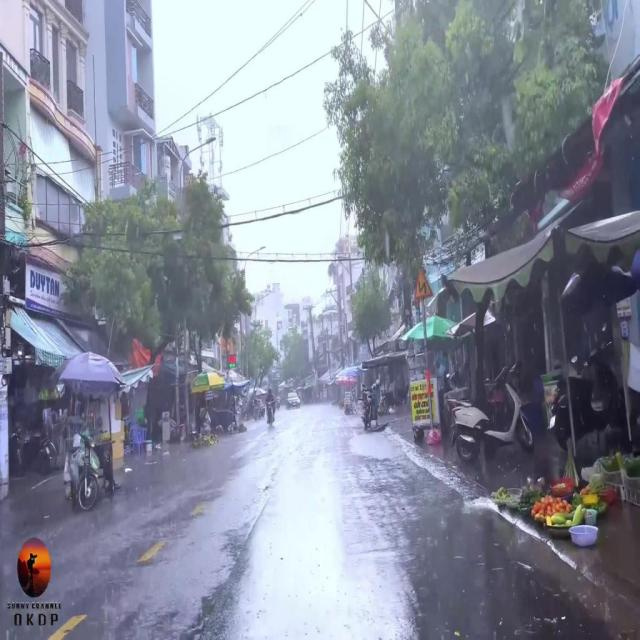cho_ngoat_nguy_hiem_lien_tiep: (414, 264, 432, 300)
